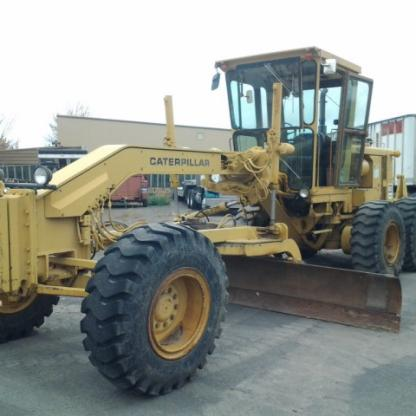bull_dozer/loader/grader: (0, 26, 416, 398)
